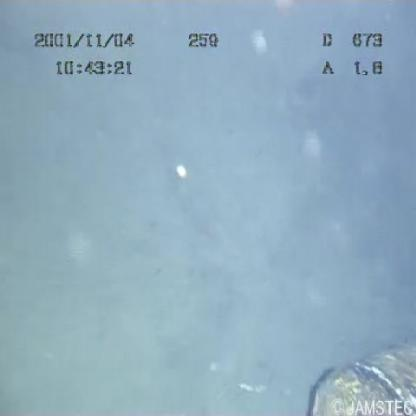Rác: (307, 338, 416, 416)
